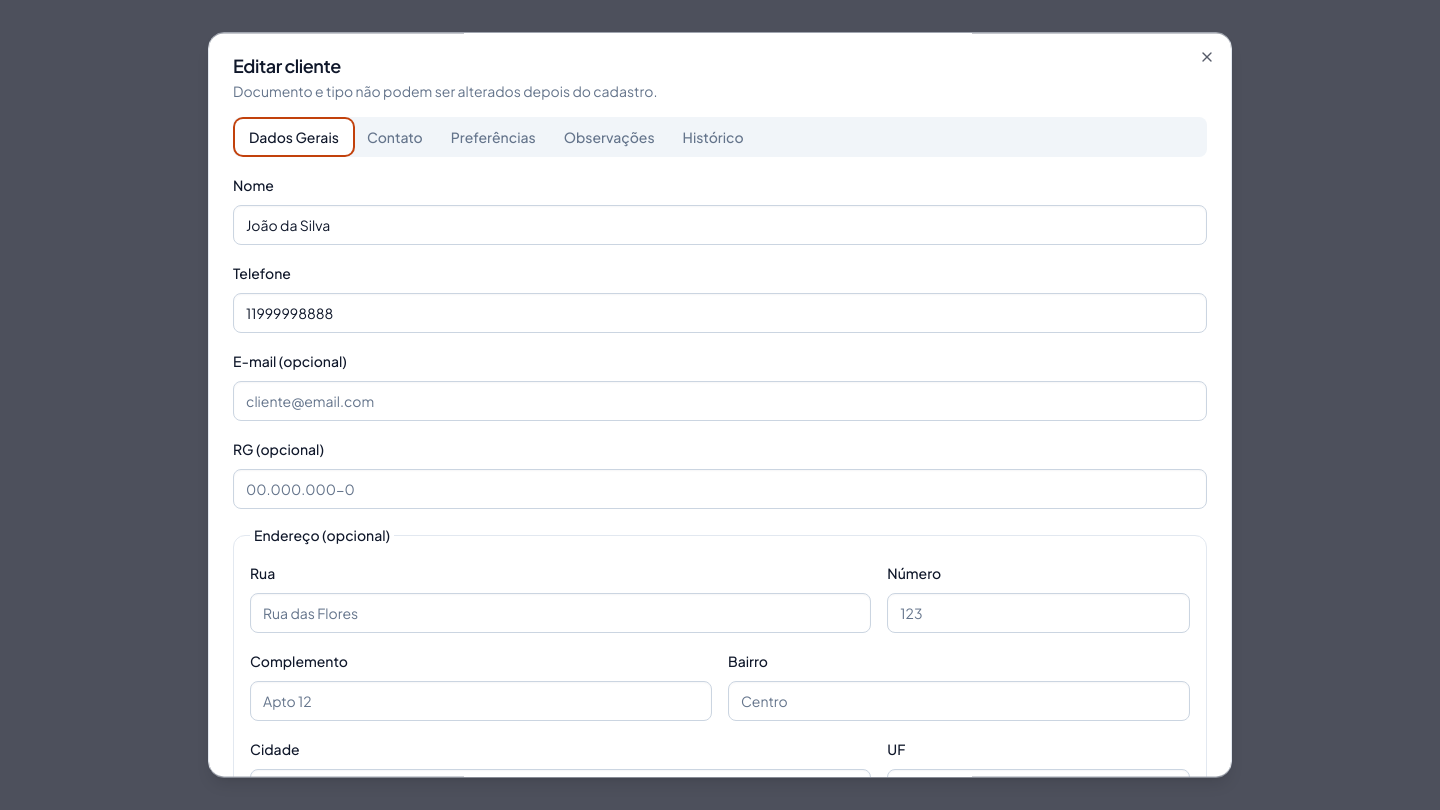
Test: CustomerFormModal › loads the service order history in edit mode
What coordinates should you click on to do the following:
click the tab "Histórico"
I would click on:
 (713, 137)
Its box is [671, 121, 756, 153].
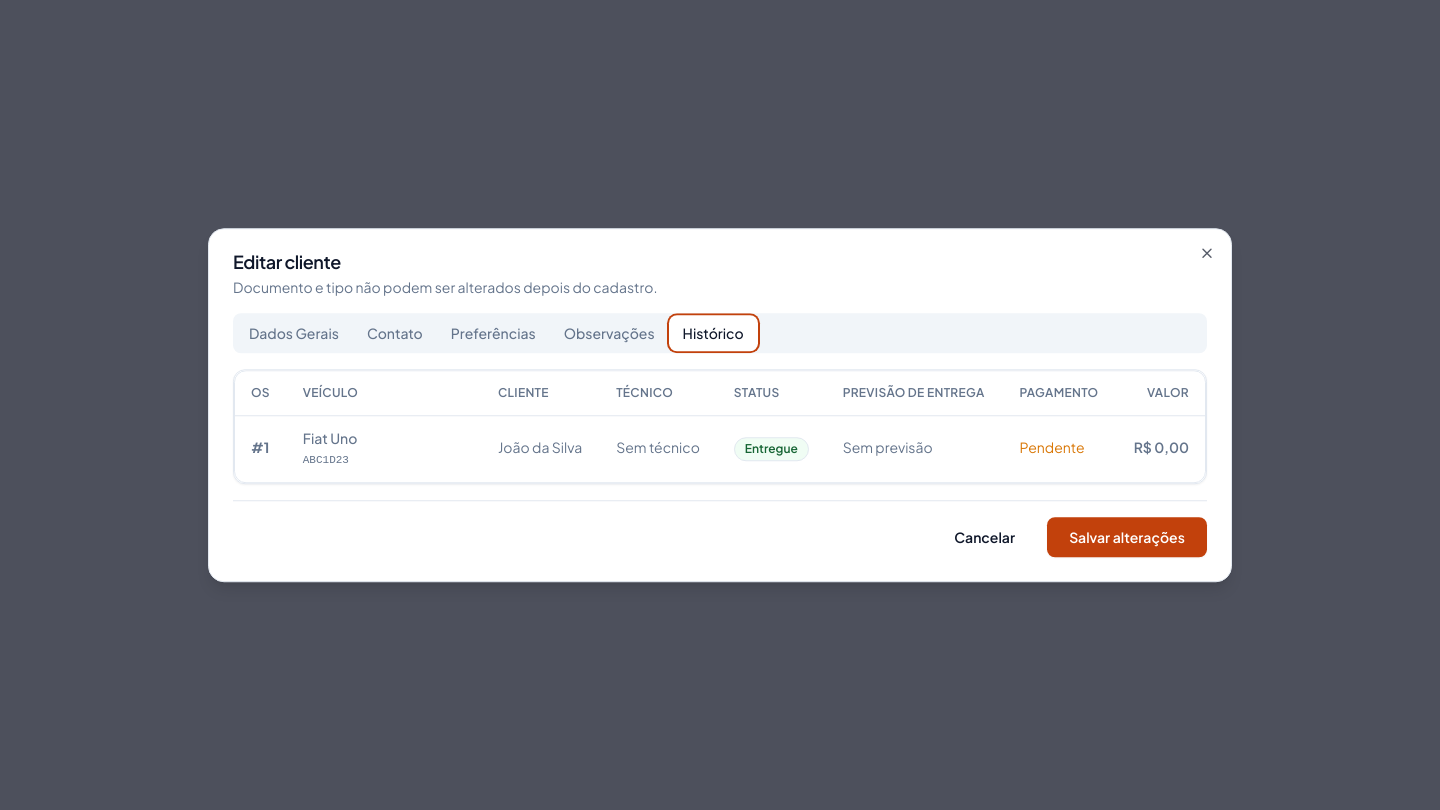
Now the link "Fiat Uno ABC1D23" is shown, box [303, 429, 357, 466]
